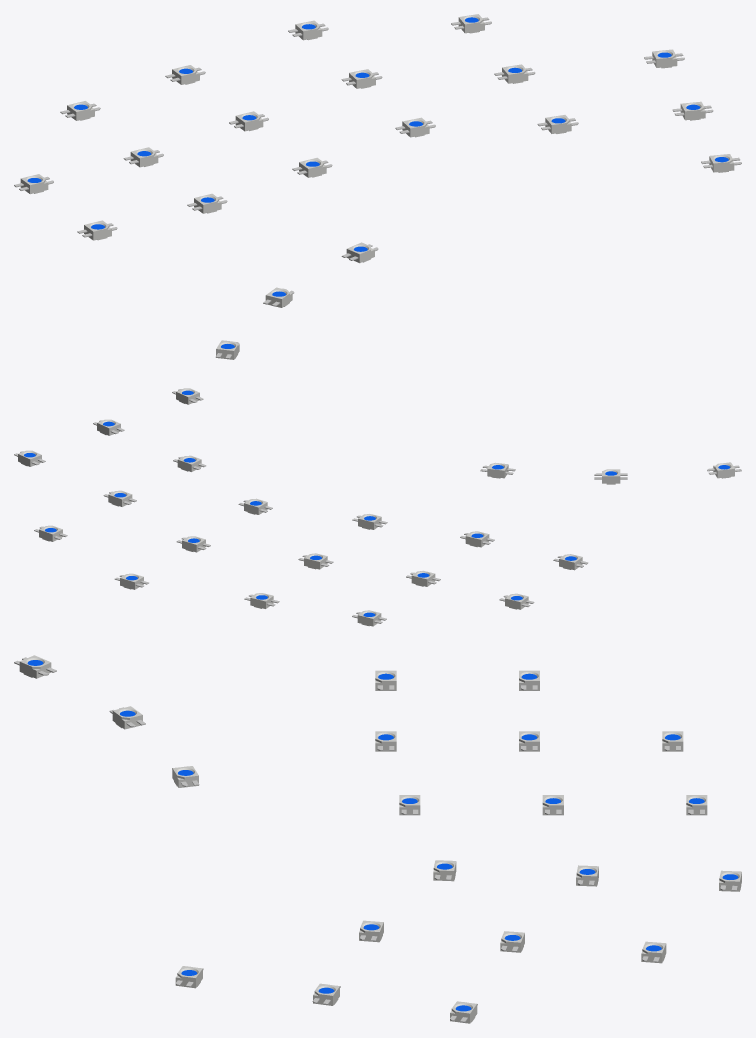
The model's file is lights.glb.
3 views of the same model, one above another, from view 1: azimuth 30°, elevation 25°; view 2: azimuth 150°, elevation 25°; view 3: azimuth 270°, elevation 25° (orthographic). The views are drawn at different scales.
Parts seen in each view (by area): view 1: no part large enough to name; view 2: no part large enough to name; view 3: =>[0:1:1:3].
Part boxes in pixels (bbox=[...]): =>[0:1:1:3]: bbox=[14, 655, 56, 678].
Size of the model in its own units: 0.1146 by 0.00163 by 0.0967.
